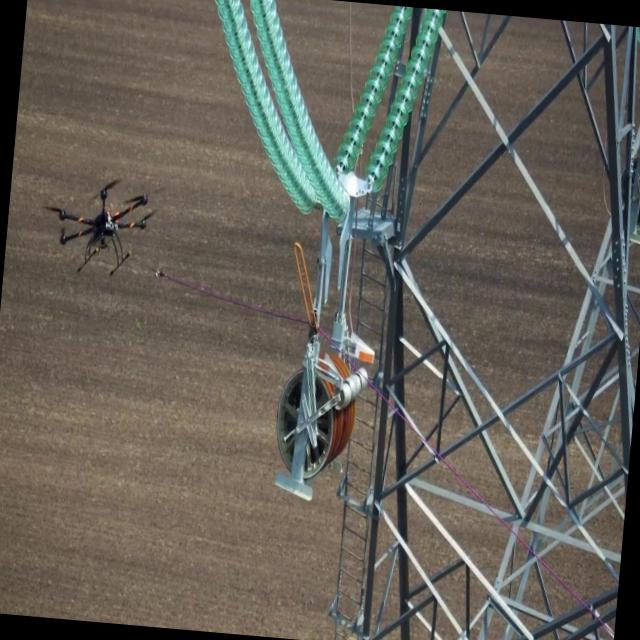drone: (40, 169, 160, 280)
